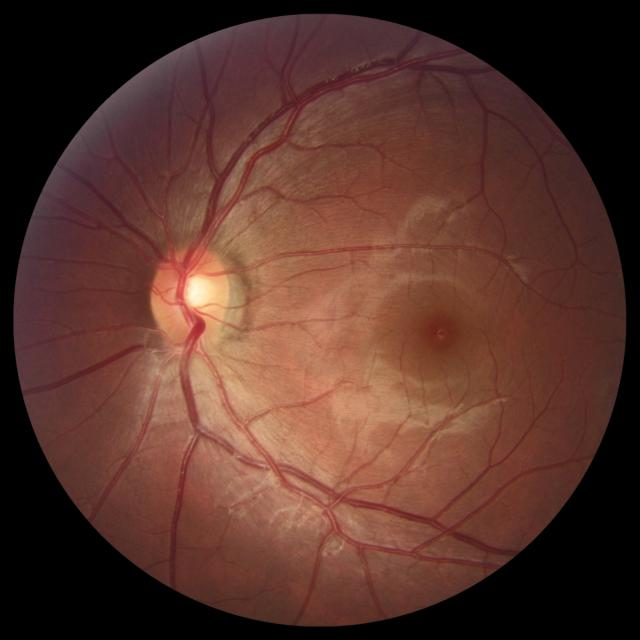OC: (174, 271, 213, 314)
OD: (151, 242, 232, 348)
